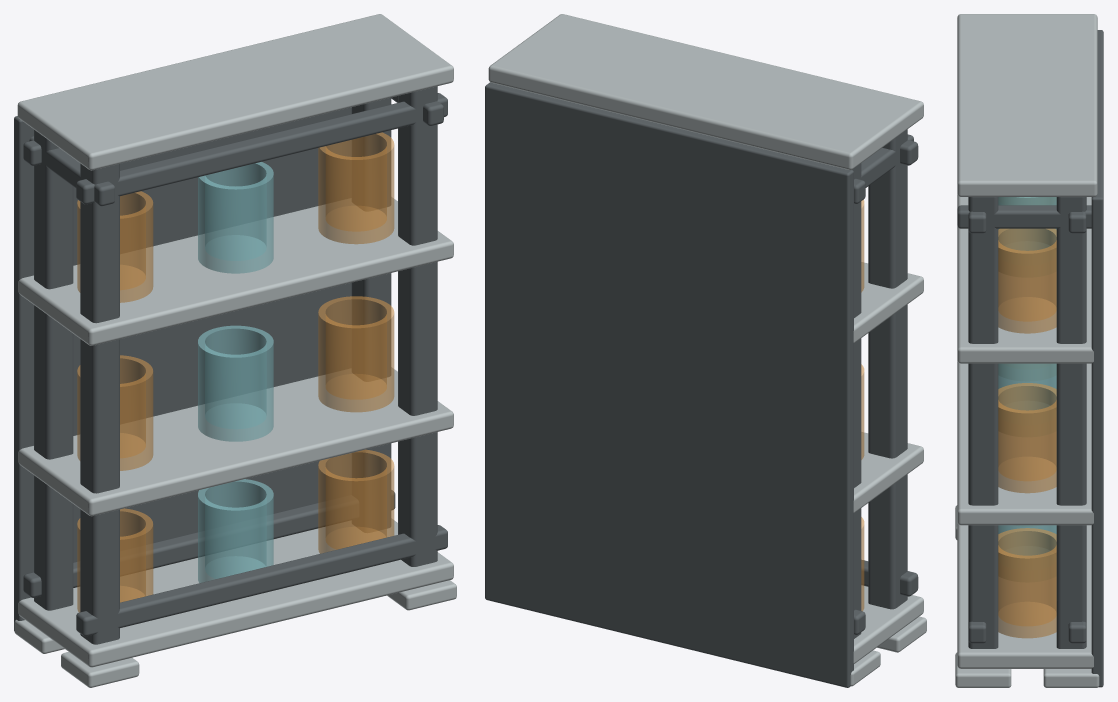
Rendered from glassblowing-studio-and-gallery-glass-color-rack-df9c5905__29616.glb.
3 views of the same model, side by side, from view 1: azimuth 30°, elevation 25°; view 2: azimuth 150°, elevation 25°; view 3: azimuth 270°, elevation 25° (orthographic). The views are drawn at different scales.
Visible parts, largest first — view 1: glass-color-rack; view 2: glass-color-rack; view 3: glass-color-rack.
Boxes of the visible parts, left/top/right/bottom form: glass-color-rack: left=14, top=14, right=456, bottom=687; glass-color-rack: left=485, top=14, right=926, bottom=687; glass-color-rack: left=955, top=14, right=1103, bottom=687.
Size of the model in its own units: 1.01 by 1.39 by 0.3701.
